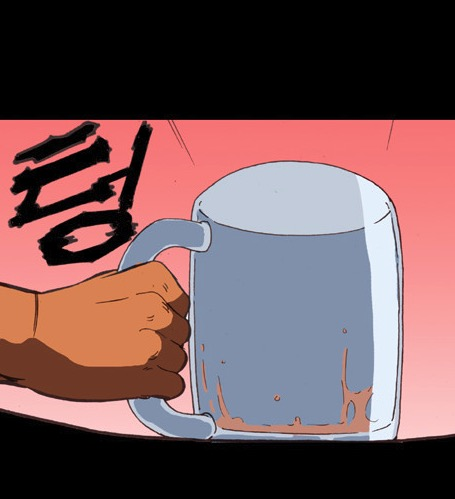beer: (105, 155, 406, 442)
cup: (105, 149, 406, 440)
